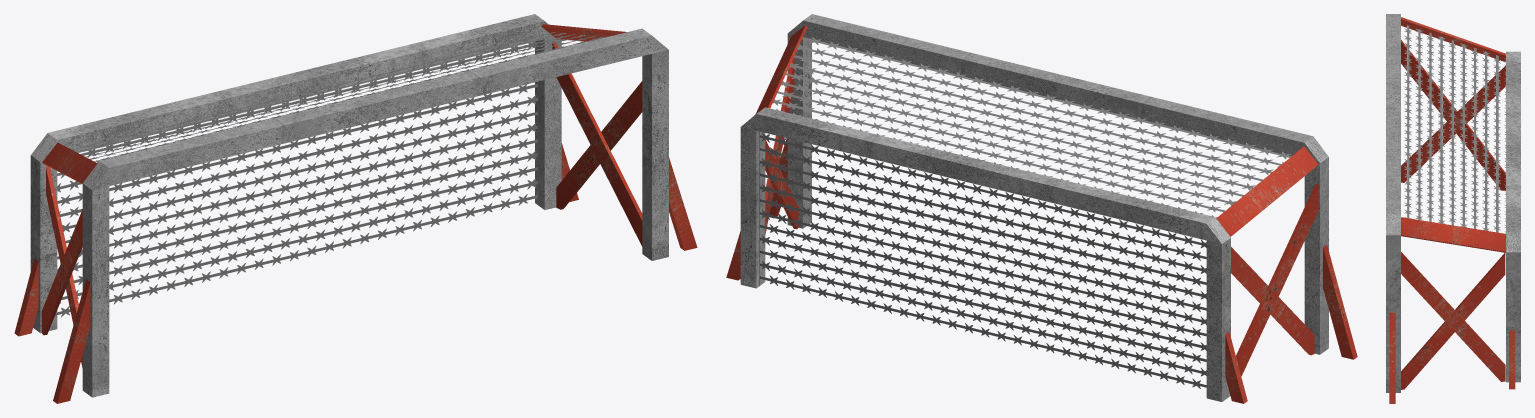
Rendered from ARCO BERLIN CCCP.FBX.
The picture shows the model from 3 angles, left to right: view 1: azimuth 30°, elevation 25°; view 2: azimuth 150°, elevation 25°; view 3: azimuth 270°, elevation 25°; orthographic projection. The views are drawn at different scales.
Visible parts, largest first — view 1: ARCO BERLIN CCCP, RED BERLÍN CCCP; view 2: ARCO BERLIN CCCP, RED BERLÍN CCCP; view 3: ARCO BERLIN CCCP, RED BERLÍN CCCP.
Part boxes in pixels (<box>): ARCO BERLIN CCCP: <box>14,14,697,403</box>; RED BERLÍN CCCP: <box>57,31,605,317</box>; ARCO BERLIN CCCP: <box>726,14,1357,403</box>; RED BERLÍN CCCP: <box>759,37,1291,388</box>; ARCO BERLIN CCCP: <box>1386,14,1520,403</box>; RED BERLÍN CCCP: <box>1404,25,1505,232</box>.
Bounding box in the file's own units: 762 × 257 × 183.
